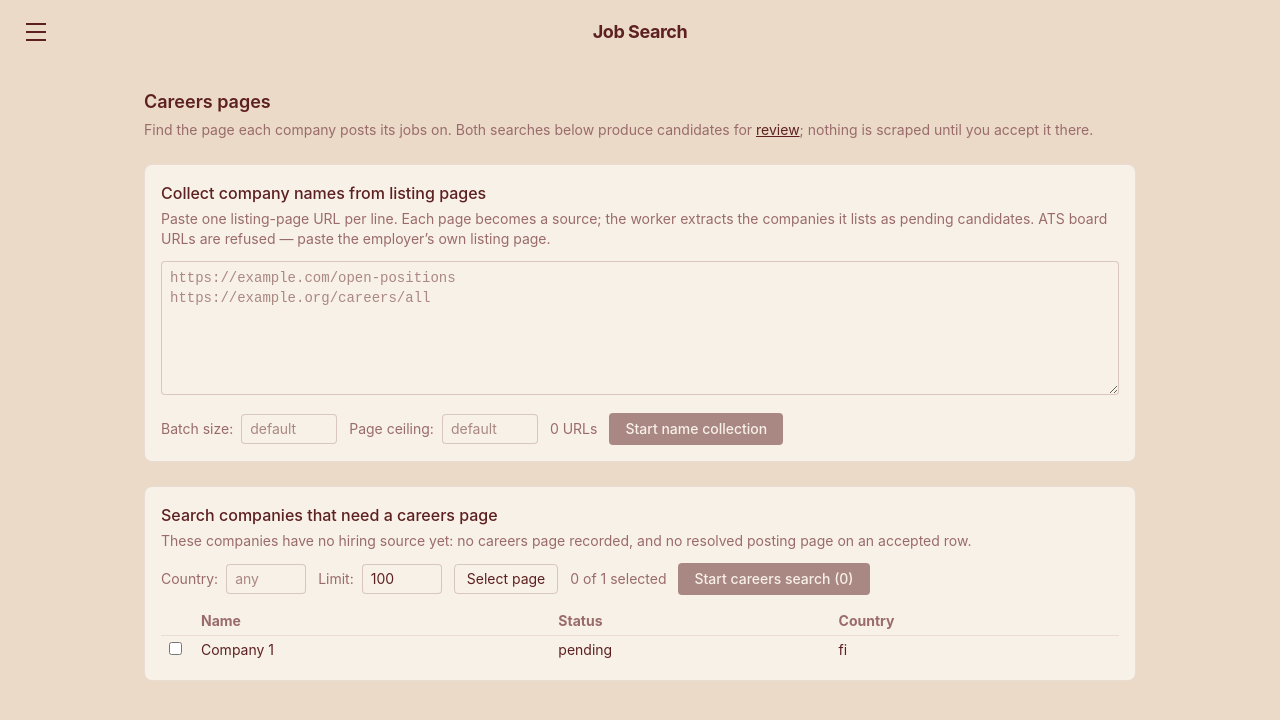
Scenario: M1-UI careers-page search › treats a 409 start as blocked, not as a failure
The width and height of the screenshot is (1280, 720).
Expected: the text "Company 1" is shown, left=193, top=636, right=550, bottom=664
Click the button "Select page" at (506, 579), box left=454, top=564, right=558, bottom=594
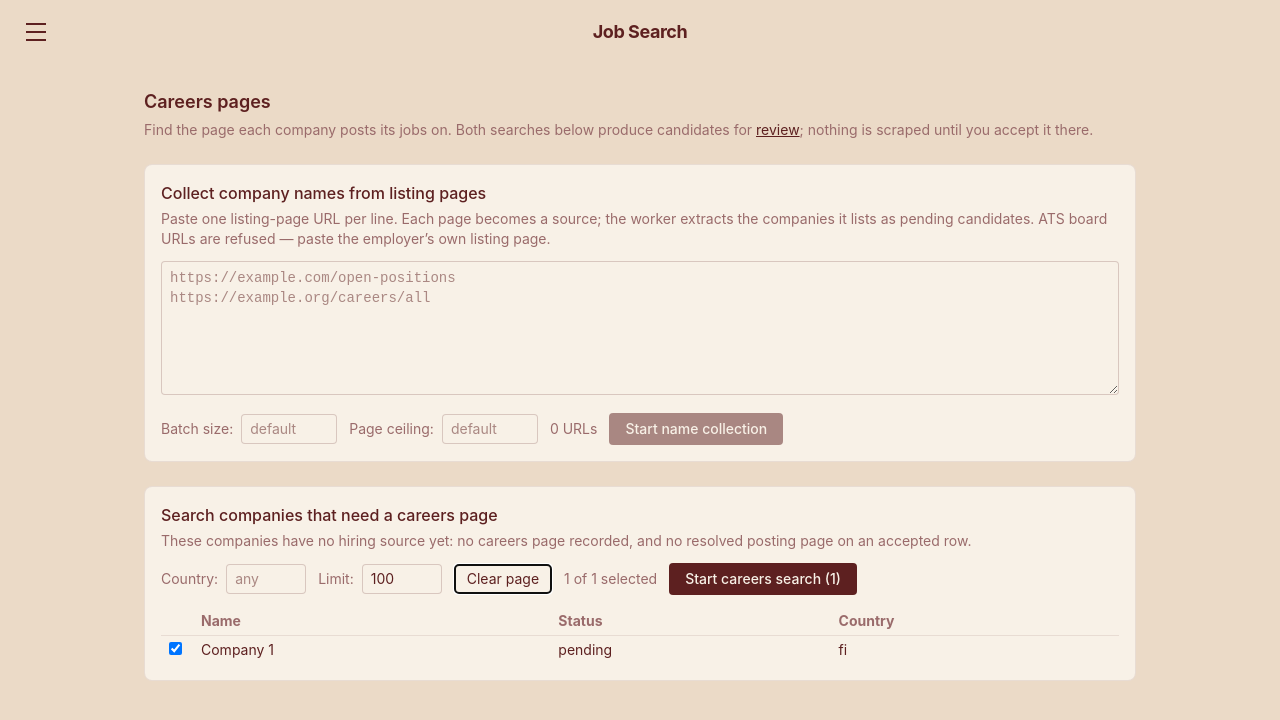
Click the button "Start careers search (1)" at (763, 579), box left=669, top=563, right=857, bottom=595
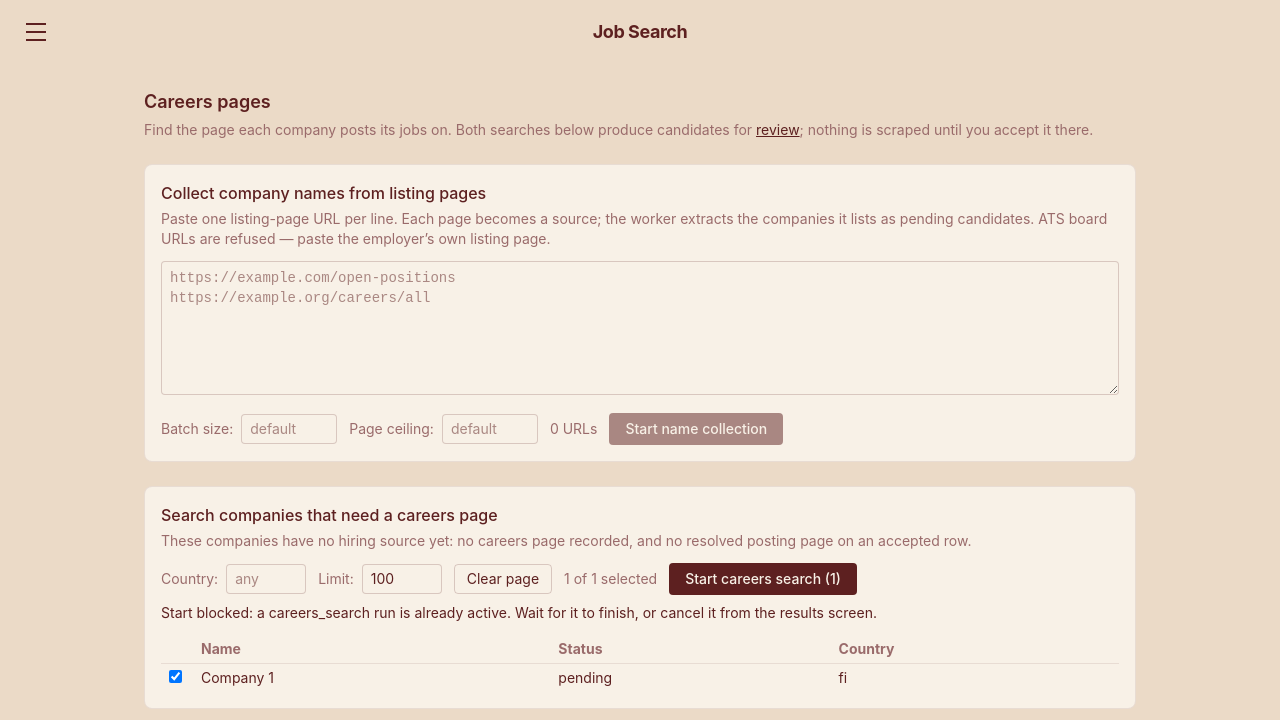
Result: the text "Start blocked" shows "a careers_search run is already active" at left=257, top=604, right=507, bottom=621
